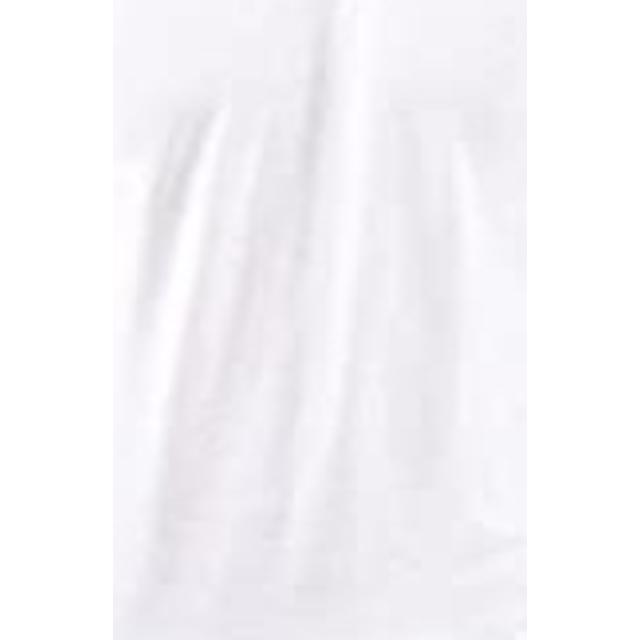polyester: (113, 0, 527, 640)
